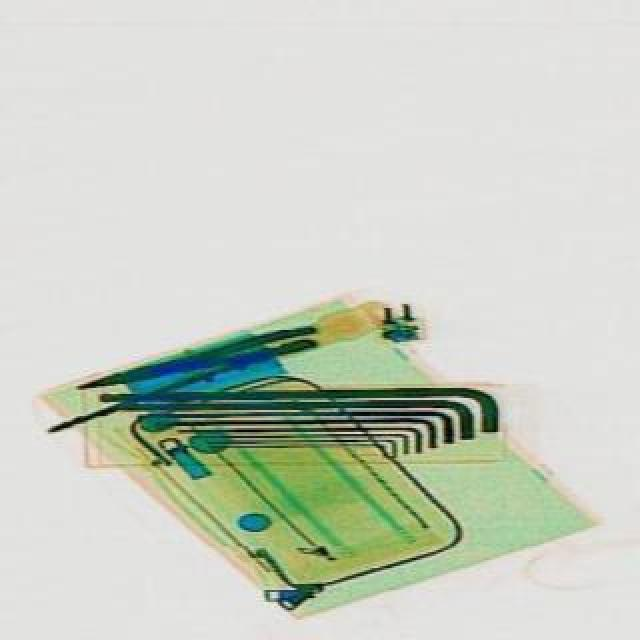wrench: (70, 322, 320, 398)
